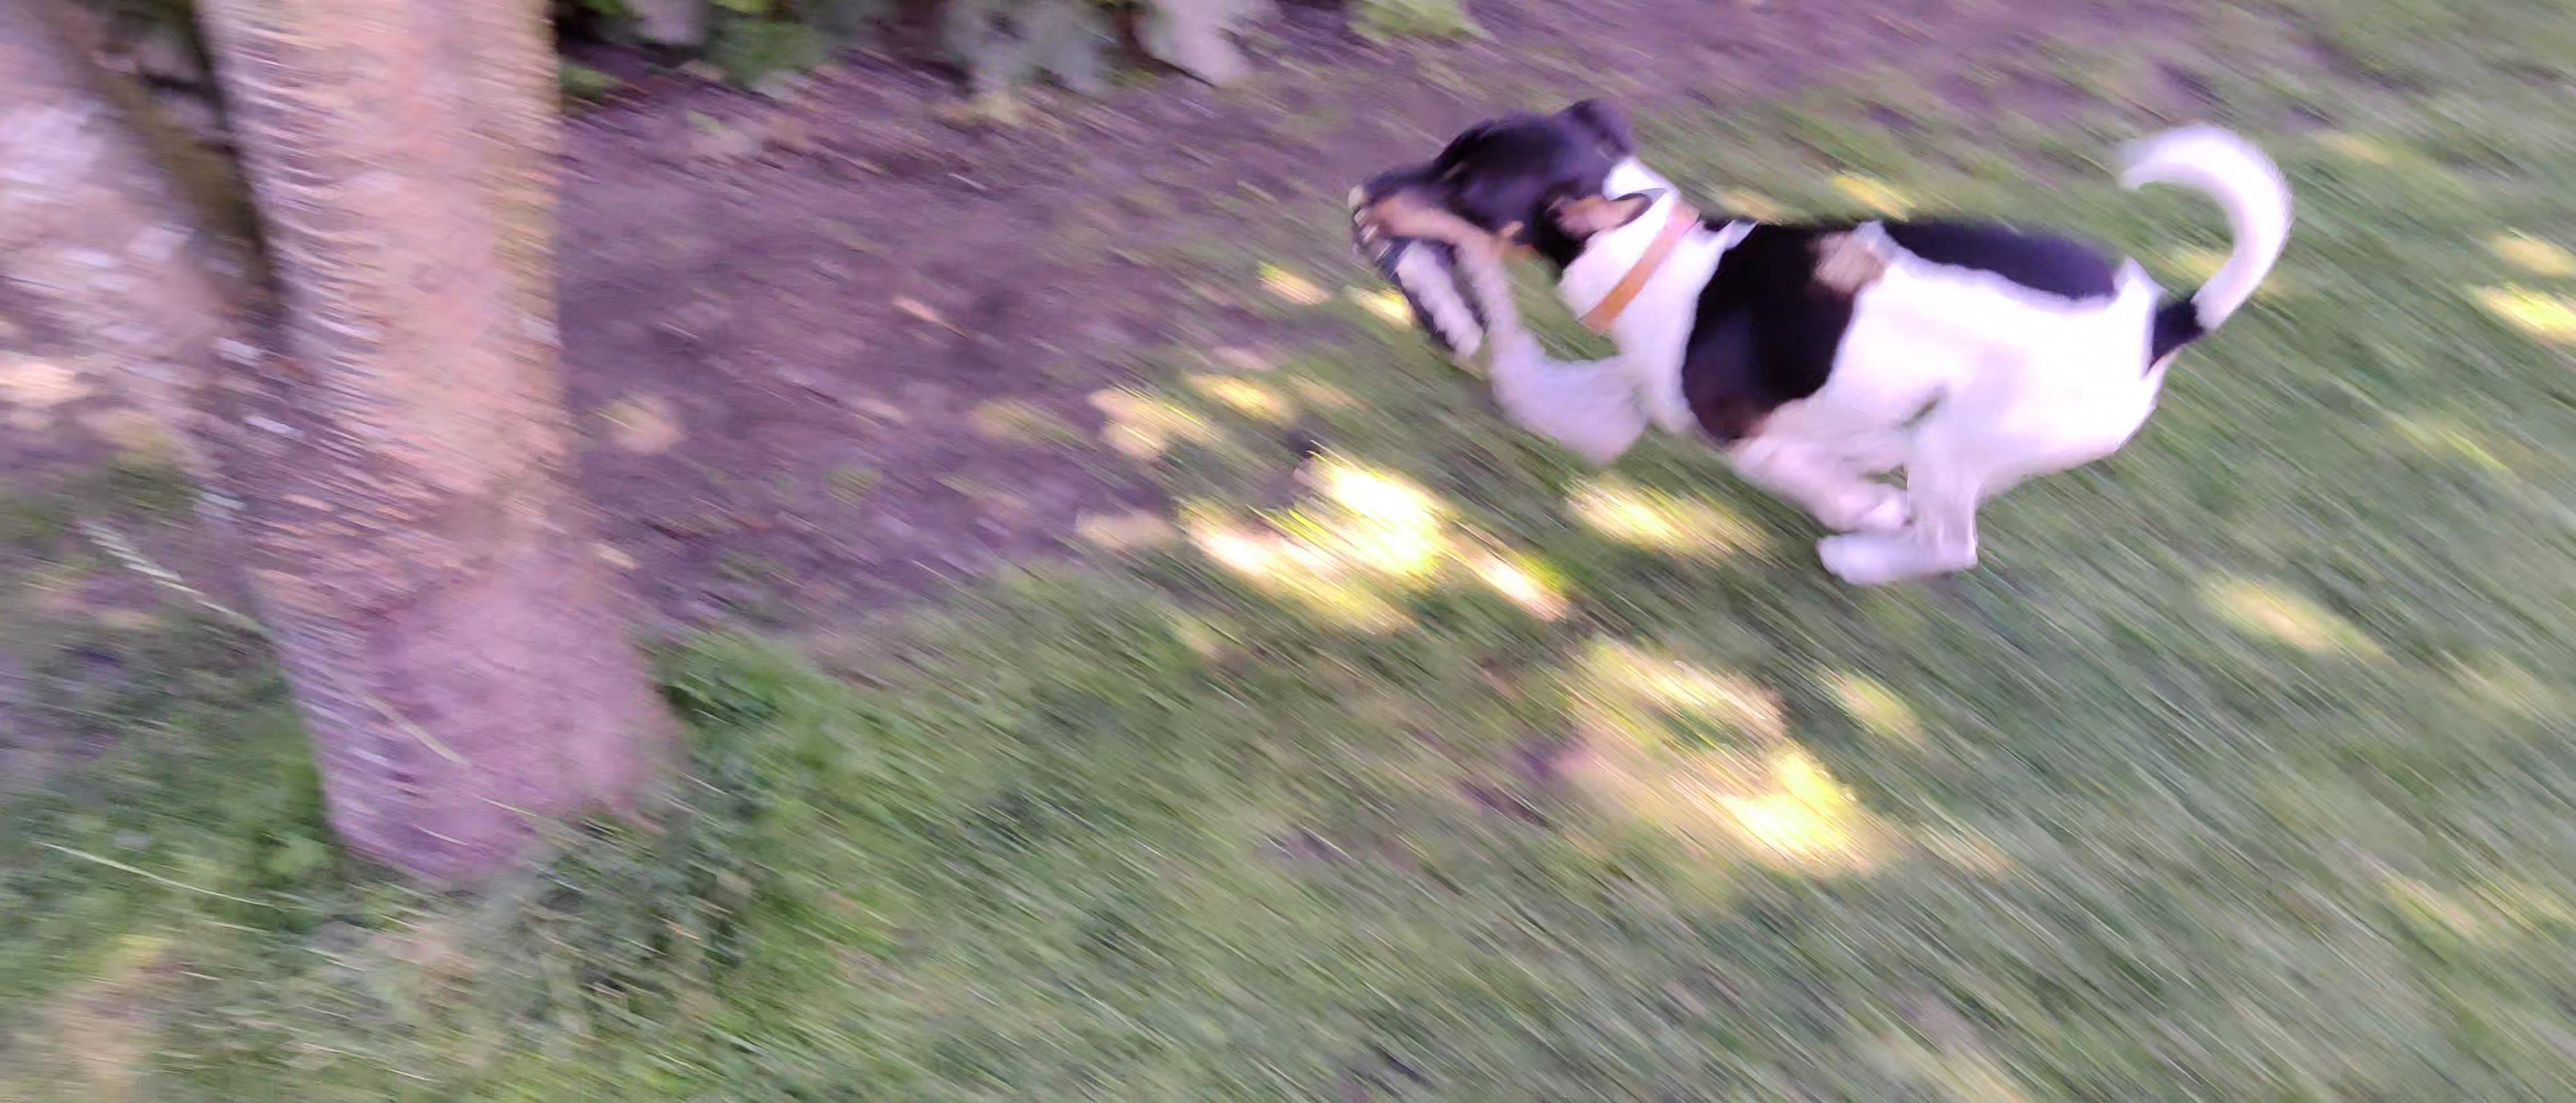Dog: (1359, 89, 2293, 588)
